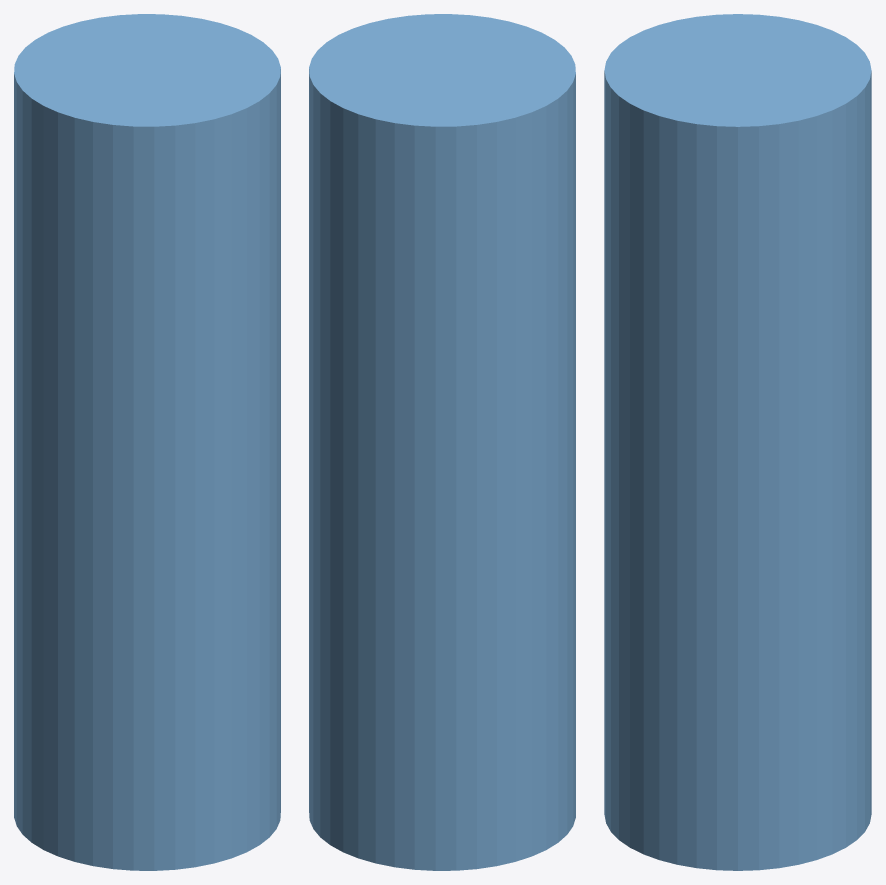
The model's file is rec_pet_bottle_0096.glb.
3 views of the same model, side by side, from view 1: azimuth 30°, elevation 25°; view 2: azimuth 150°, elevation 25°; view 3: azimuth 270°, elevation 25° (orthographic).
Visible parts, largest first — view 1: z-up-to-y-up; view 2: z-up-to-y-up; view 3: z-up-to-y-up.
Boxes of the visible parts, x1=… form: z-up-to-y-up: x1=14, y1=14, x2=280, y2=870; z-up-to-y-up: x1=309, y1=14, x2=575, y2=870; z-up-to-y-up: x1=604, y1=14, x2=871, y2=870.
Size of the model in its own units: 0.061 by 0.1876 by 0.061.
